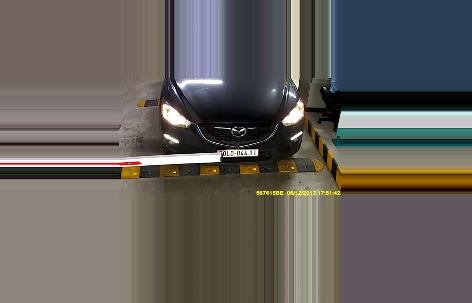plate: (216, 146, 261, 157)
